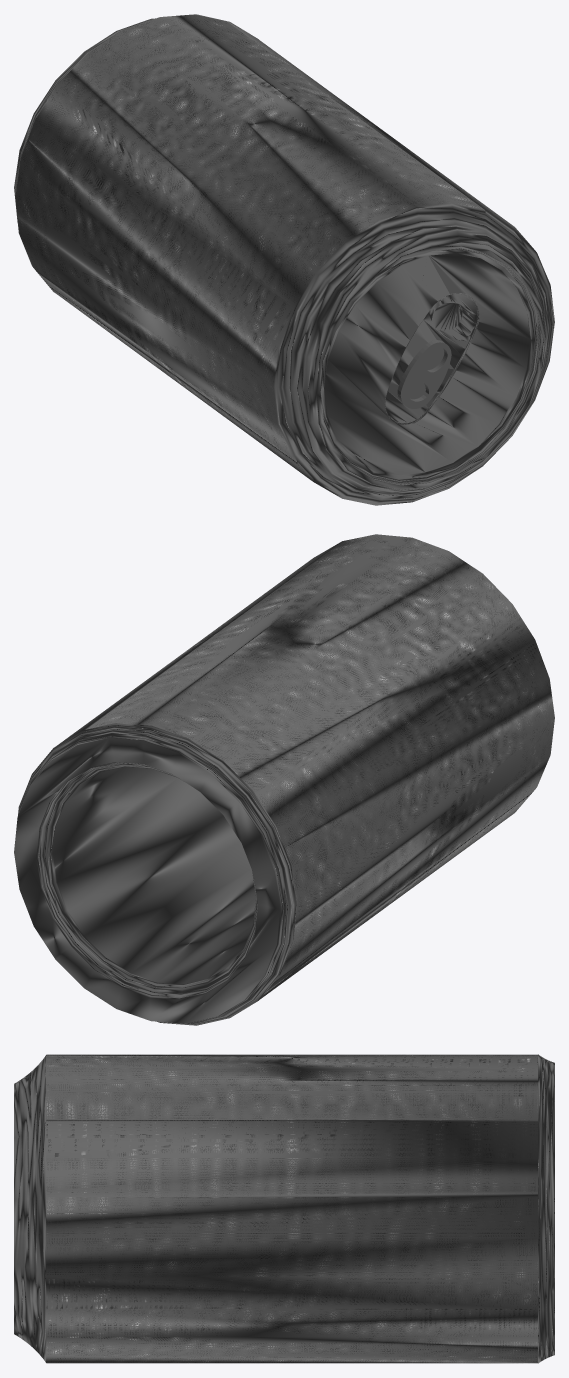
File: model_align.obj
3 renders of one model, top to bottom at view 1: azimuth 30°, elevation 25°; view 2: azimuth 150°, elevation 25°; view 3: azimuth 270°, elevation 25°, orthographic. The views are drawn at different scales.
Size of the model in its own units: 0.0743 by 0.0743 by 0.1296.
